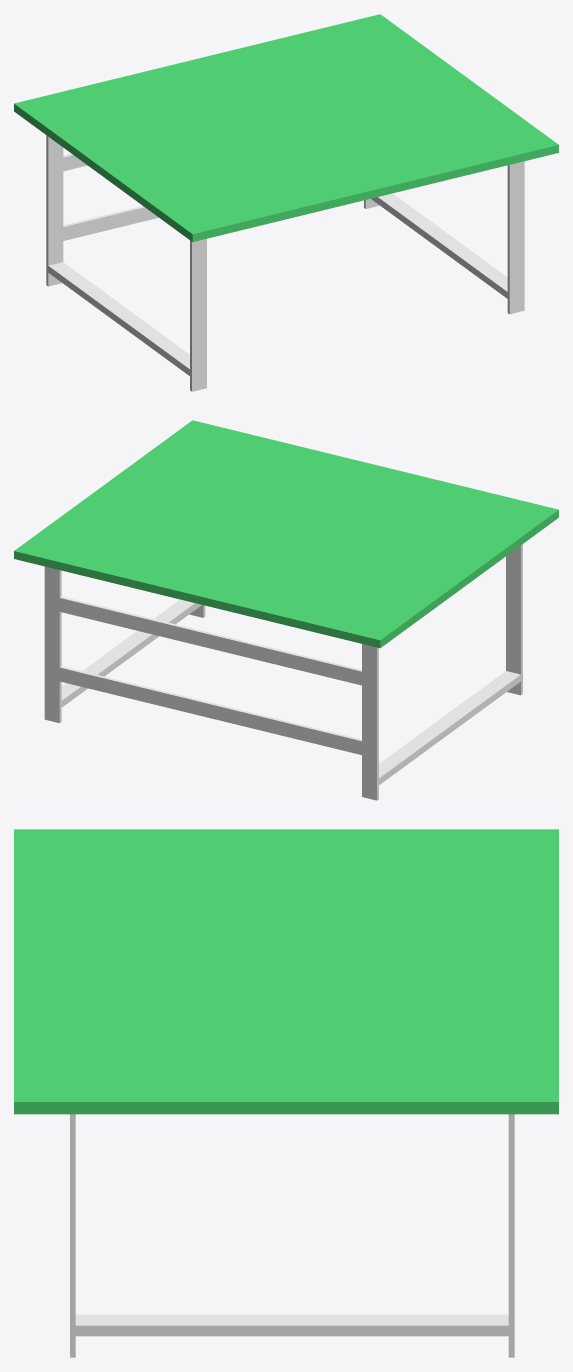
File: table.fbx
The picture shows the model from 3 angles, top to bottom: view 1: azimuth 30°, elevation 25°; view 2: azimuth 150°, elevation 25°; view 3: azimuth 270°, elevation 25°; orthographic projection. The views are drawn at different scales.
Visible parts, largest first — view 1: Cube, tbl_lowerPart.001; view 2: Cube, tbl_lowerPart.001; view 3: Cube, tbl_lowerPart.001.
Part boxes in pixels (bbox=[...]): Cube: bbox=[14, 14, 558, 241]; tbl_lowerPart.001: bbox=[46, 135, 524, 391]; Cube: bbox=[14, 420, 558, 648]; tbl_lowerPart.001: bbox=[44, 544, 522, 800]; Cube: bbox=[14, 829, 558, 1114]; tbl_lowerPart.001: bbox=[70, 1114, 514, 1357].
Size of the model in its own units: 20.08 by 9.18 by 16.96.
